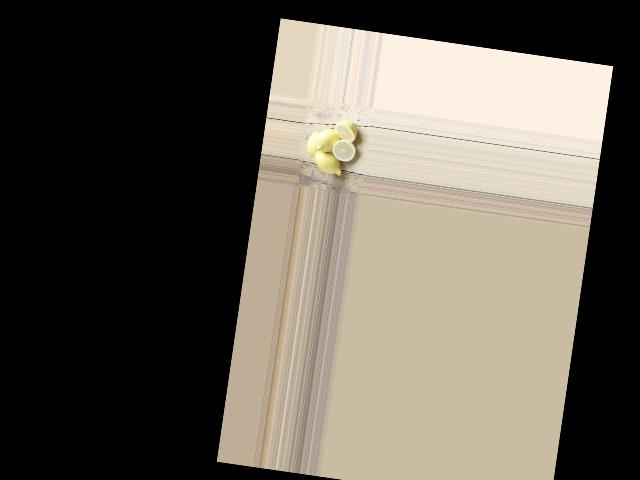lemon: (310, 149, 345, 179)
